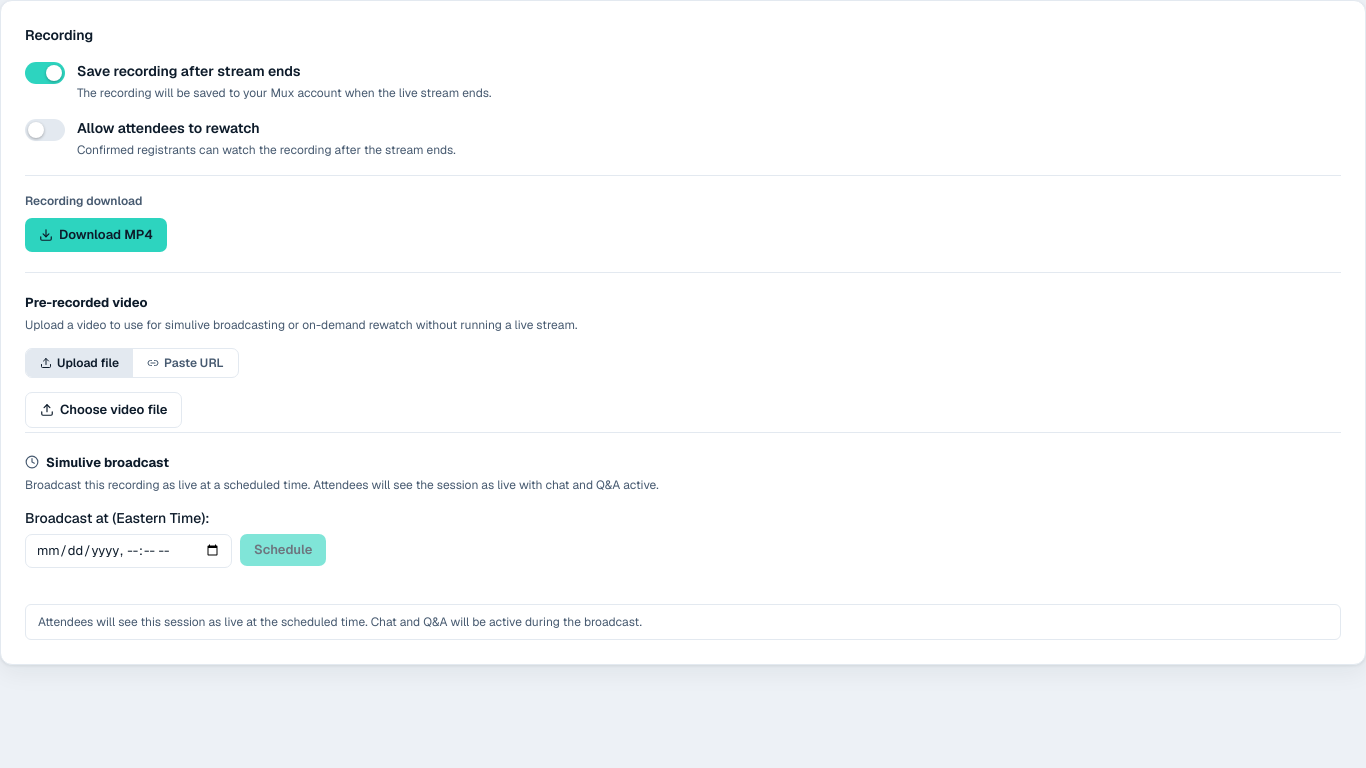
Scenario: O109: each input stores the event-zone reading and round-trips › simulive: saves the typed wall clock in the event zone and shows the zone by name
Expected: the text "Broadcast at (Eastern Time):" is shown, [25, 508, 232, 528]
Type "2026-10-06T15:00" into the field with id "simulive-broadcast-at".
click(128, 551); type("2026-10-06T15:00")  # box [25, 534, 232, 568]
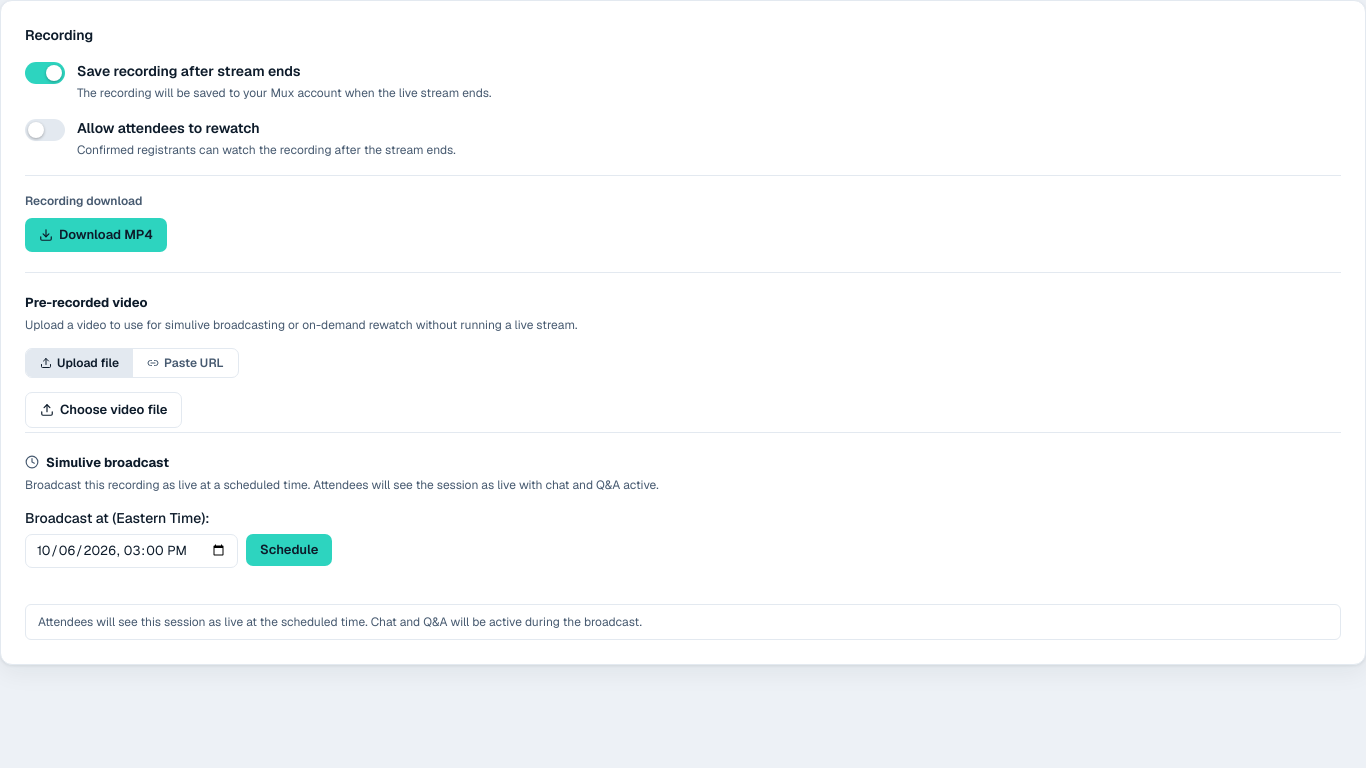
Click the button "Schedule".
click(289, 550)  # box [246, 534, 332, 566]
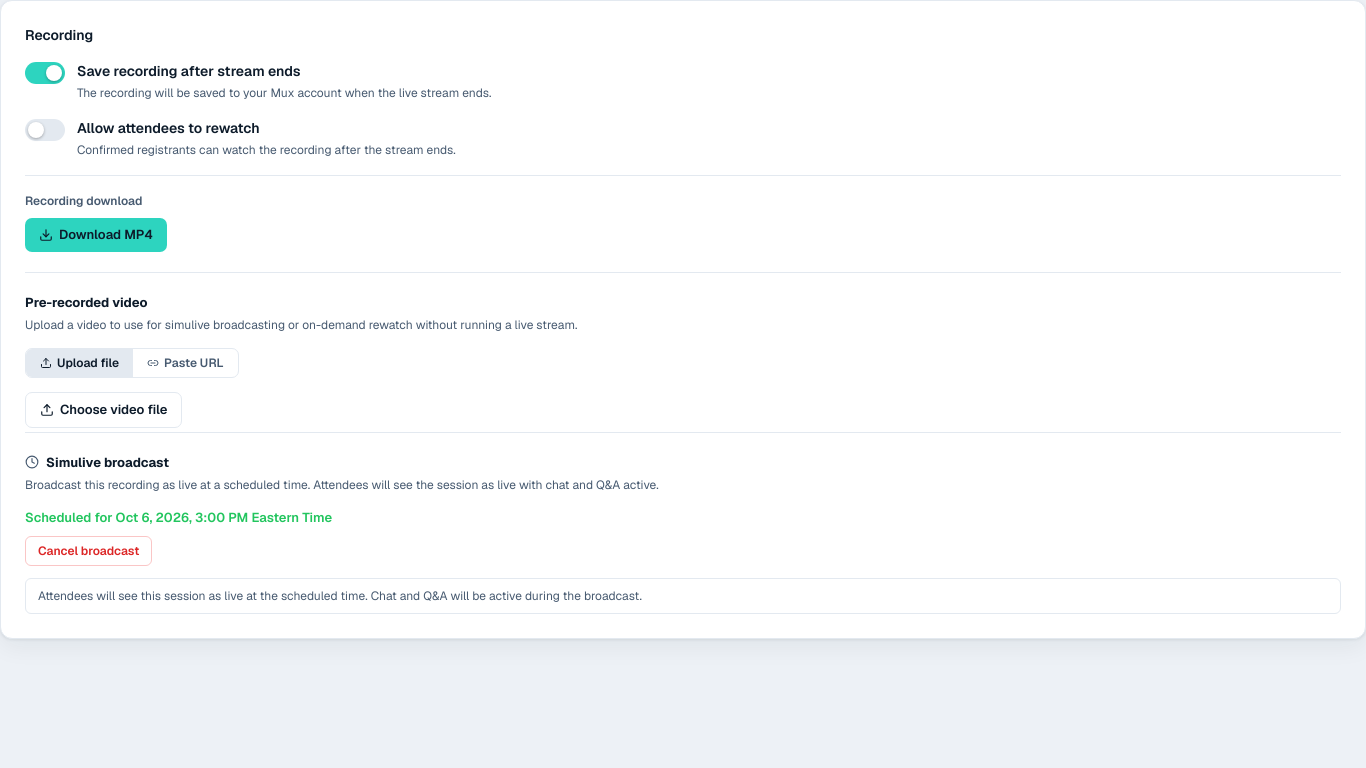
Result: the text "Scheduled for Oct 6, 2026, 3:00 PM Eastern Time" is shown at [25, 509, 332, 526]
